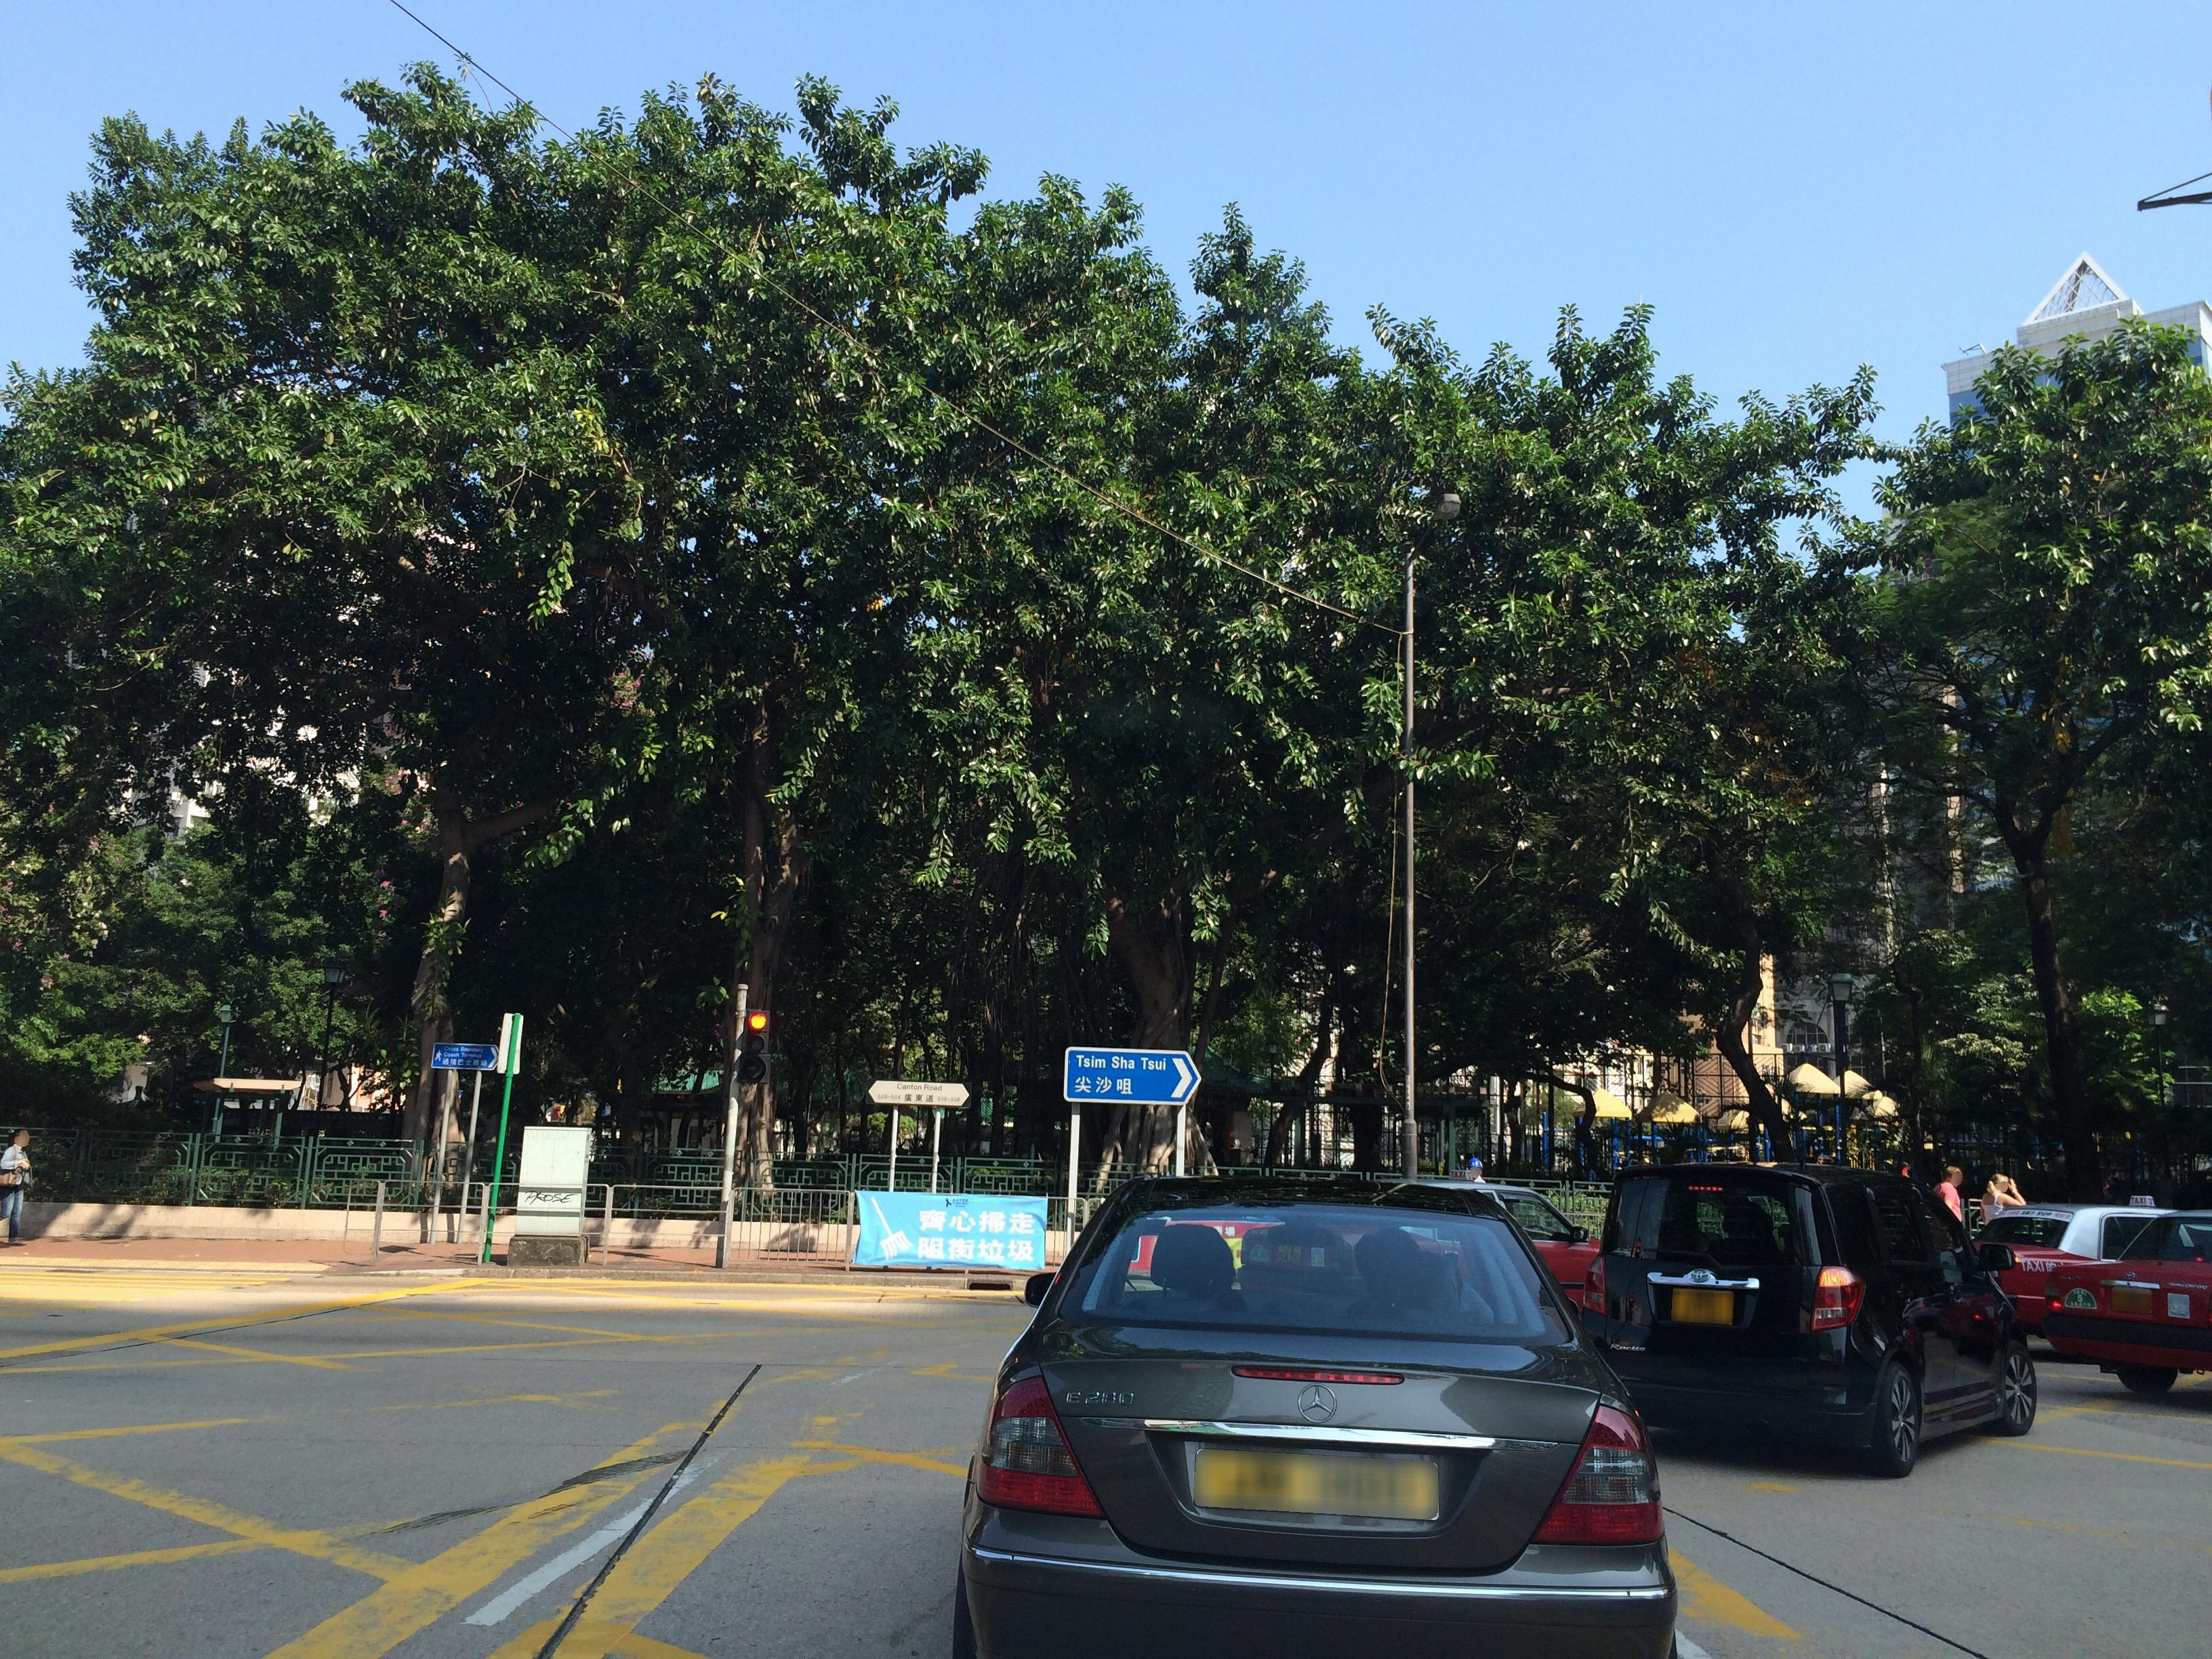vinyl banner: (838, 1159, 1055, 1286)
